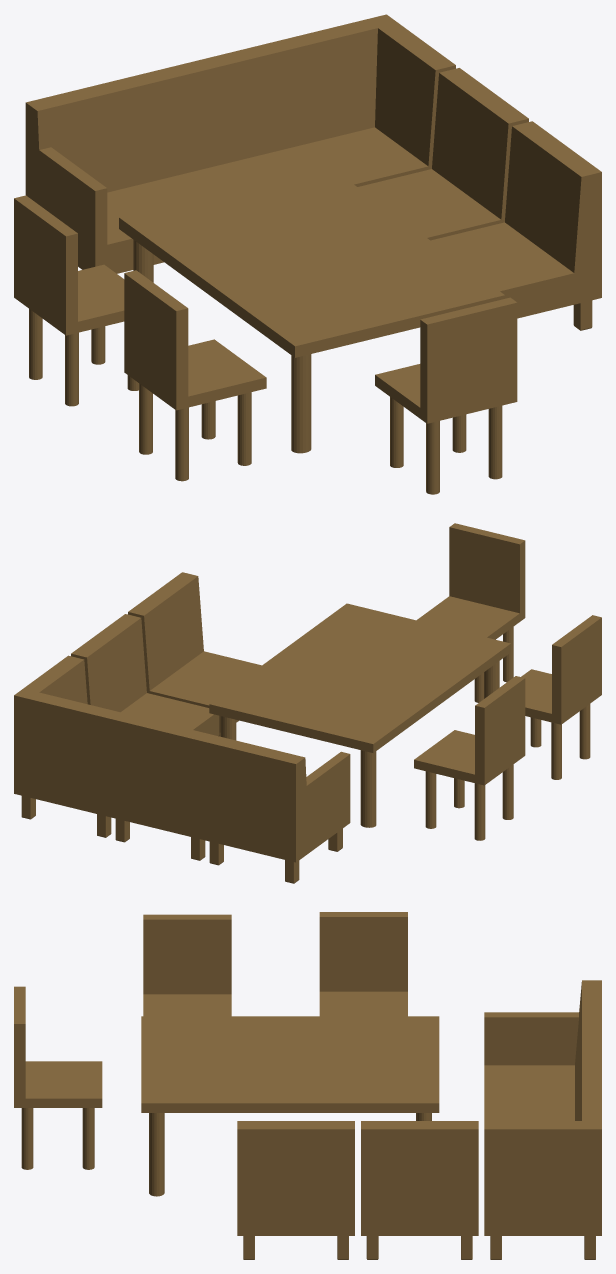
File: table_chairs.glb
3 renders of one model, top to bottom at view 1: azimuth 30°, elevation 25°; view 2: azimuth 150°, elevation 25°; view 3: azimuth 270°, elevation 25°, orthographic. The views are drawn at different scales.
Visible parts, largest first — view 1: Mesh_Mesh_head_geo.001_lambert2SG.001; view 2: Mesh_Mesh_head_geo.001_lambert2SG.001; view 3: Mesh_Mesh_head_geo.001_lambert2SG.001.
Boxes of the visible parts, x1,y1,x2,y2 form: Mesh_Mesh_head_geo.001_lambert2SG.001: (14,14,601,494); Mesh_Mesh_head_geo.001_lambert2SG.001: (14,523,601,883); Mesh_Mesh_head_geo.001_lambert2SG.001: (14,912,601,1259).
Bounding box in the file's own units: 0.081 × 0.028 × 0.1.
